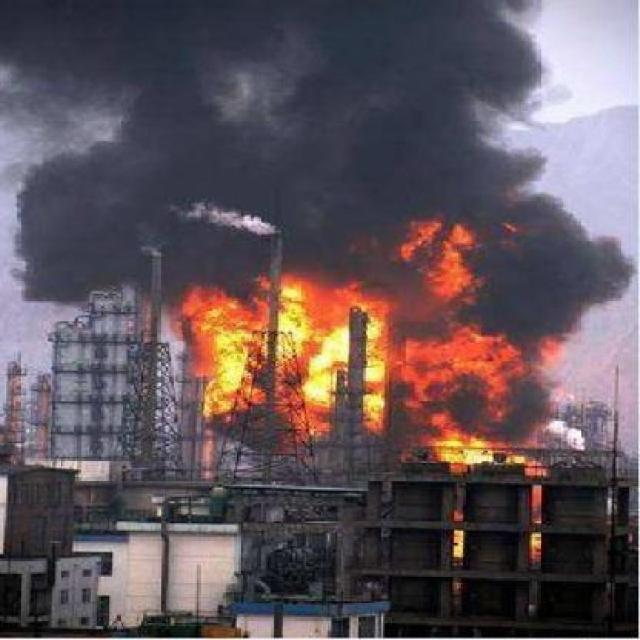Fire: (180, 287, 388, 443), (436, 430, 548, 470), (443, 491, 468, 565), (532, 484, 548, 558)
Smoke: (10, 8, 400, 284), (394, 1, 626, 424)
